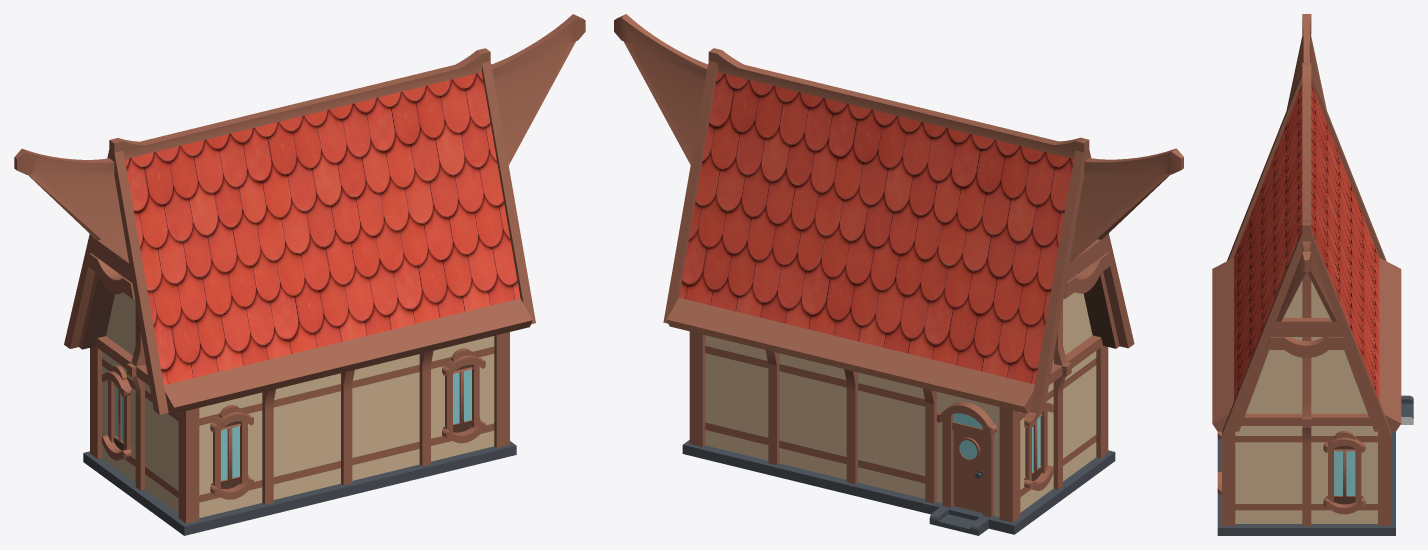
File: House(With-texture).fbx
3 renders of one model, left to right at view 1: azimuth 30°, elevation 25°; view 2: azimuth 150°, elevation 25°; view 3: azimuth 270°, elevation 25°, orthographic. The views are drawn at different scales.
Parts seen in each view (by area): view 1: House; view 2: House; view 3: House.
Part boxes in pixels (<box>): House: <box>14,14,585,535</box>; House: <box>614,14,1183,535</box>; House: <box>1212,14,1413,535</box>.
Size of the model in its own units: 3250 by 2050 by 1130.
Materials: 7 (1 with a texture image).
